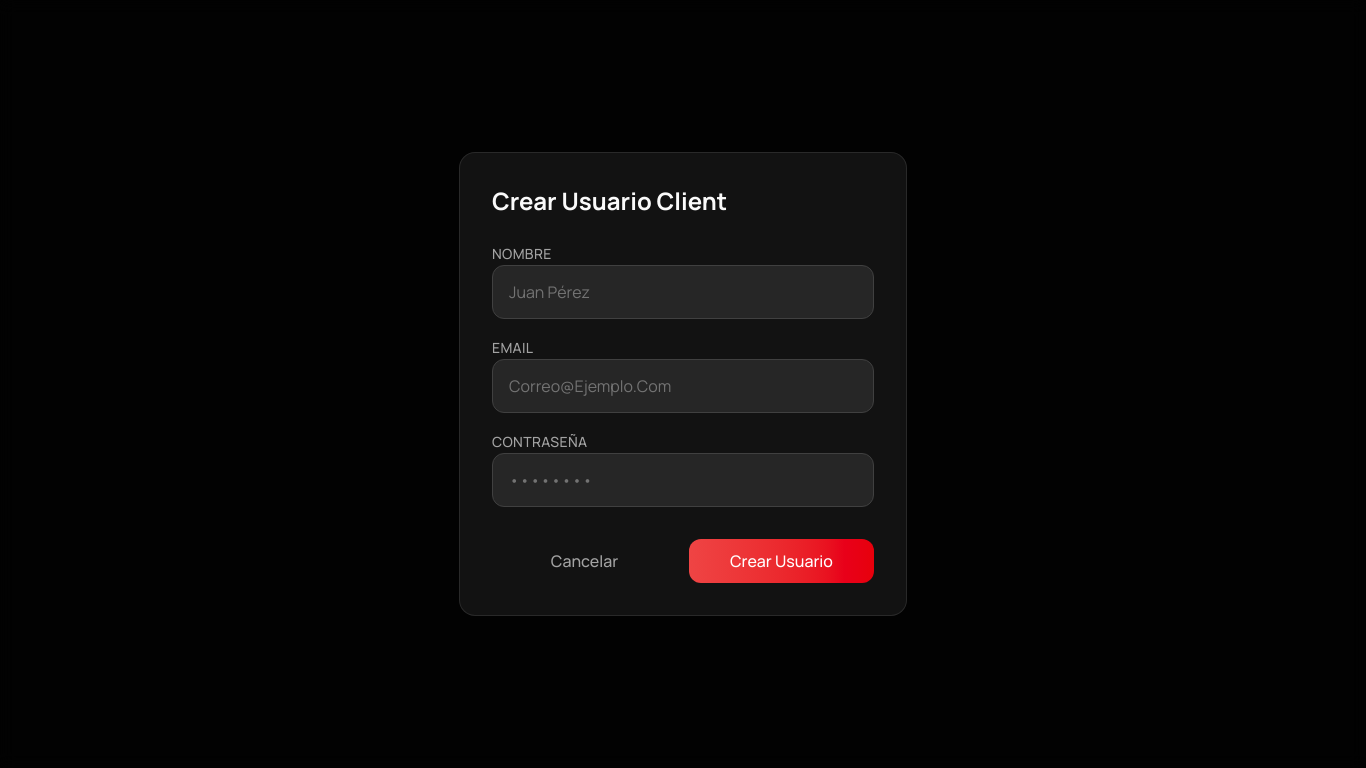
Scenario: CreateClientModal › shows validation error for short password
Type "12345" into the password field with placeholder "••••••••" at (683, 480), box [492,453,874,507]
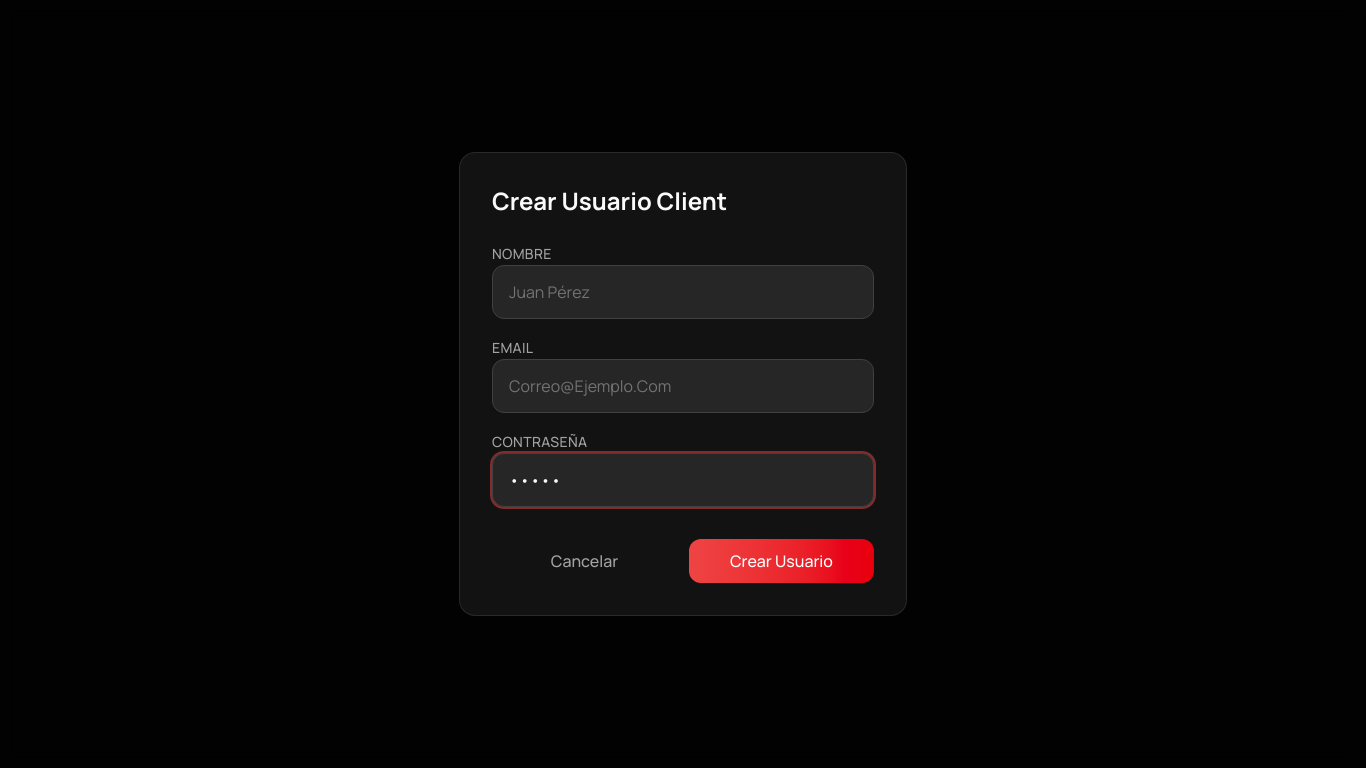
Click the button "Crear Usuario" at (782, 561), box [689,539,874,583]
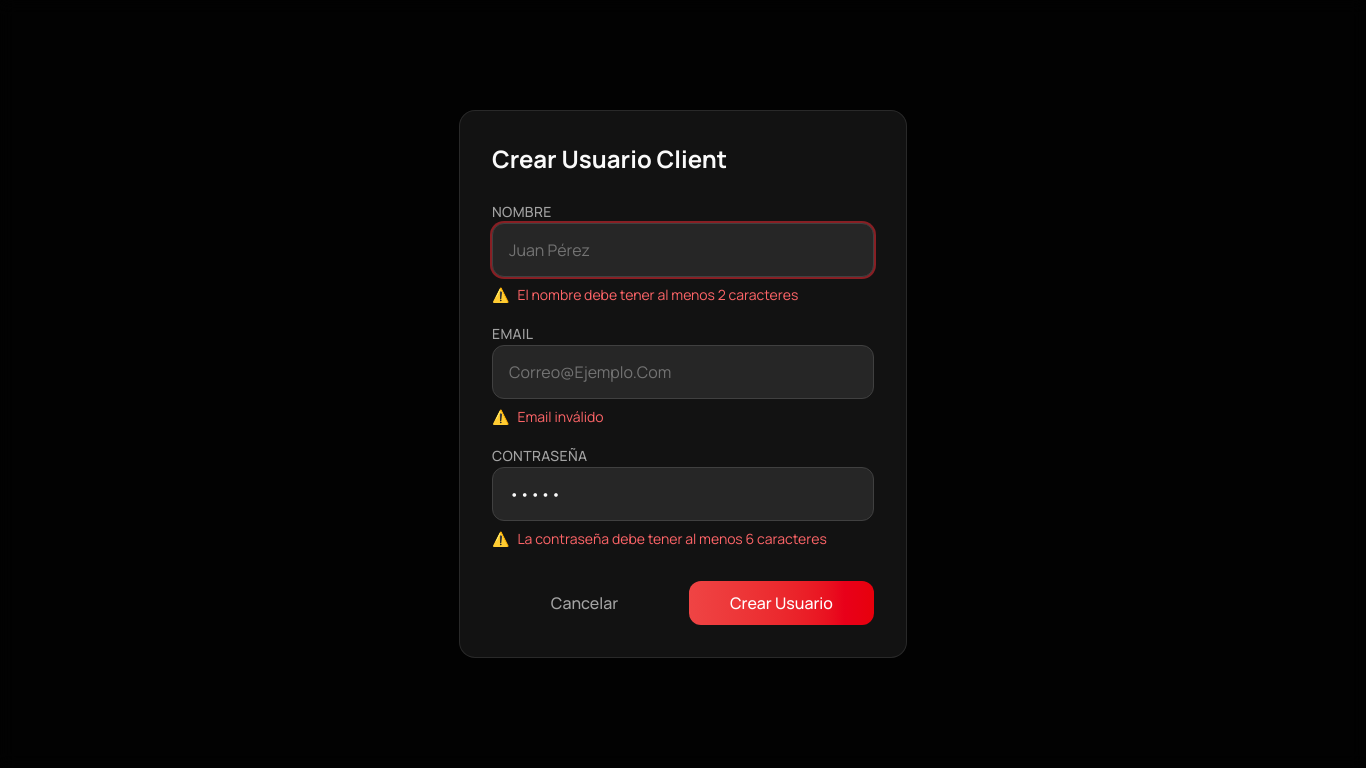
Result: the text "La contraseña debe tener al menos 6 caracteres" is shown at [518,529,827,548]
